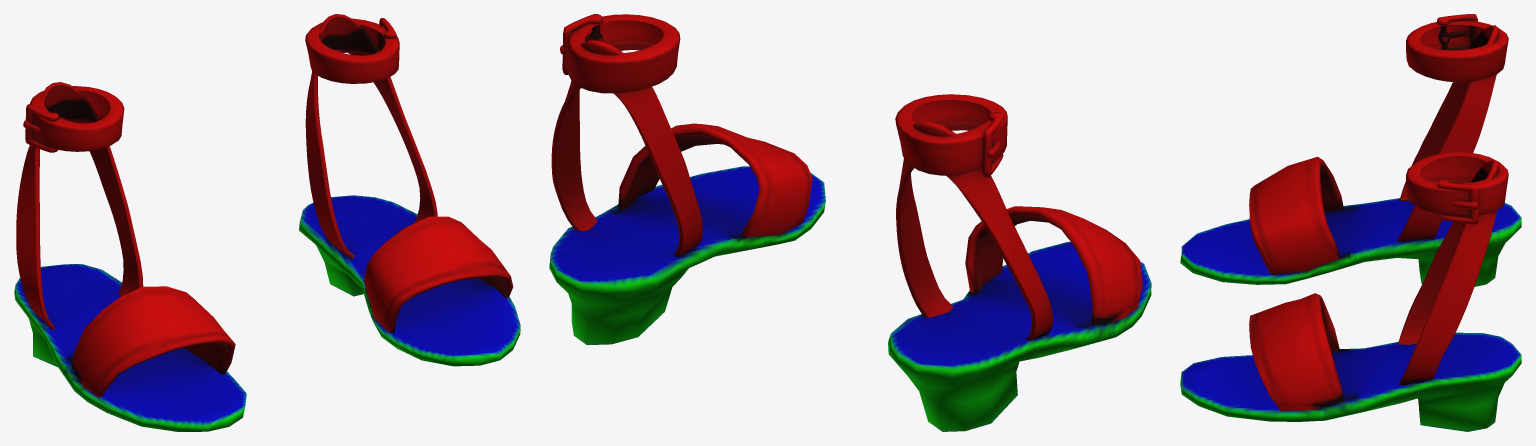
File: Feet_SandleHeels.obj
The picture shows the model from 3 angles, left to right: view 1: azimuth 30°, elevation 25°; view 2: azimuth 150°, elevation 25°; view 3: azimuth 270°, elevation 25°; orthographic projection. The views are drawn at different scales.
Visible parts, largest first — view 1: Feet_SandleHeels_0; view 2: Feet_SandleHeels_0; view 3: Feet_SandleHeels_0.
Boxes of the visible parts, left/top/right/bottom form: Feet_SandleHeels_0: left=14, top=14, right=520, bottom=431; Feet_SandleHeels_0: left=549, top=14, right=1151, bottom=431; Feet_SandleHeels_0: left=1180, top=14, right=1521, bottom=431.
Bounding box in the file's own units: 0.3302 × 0.1943 × 0.2359.
1 material, 1 textured.
